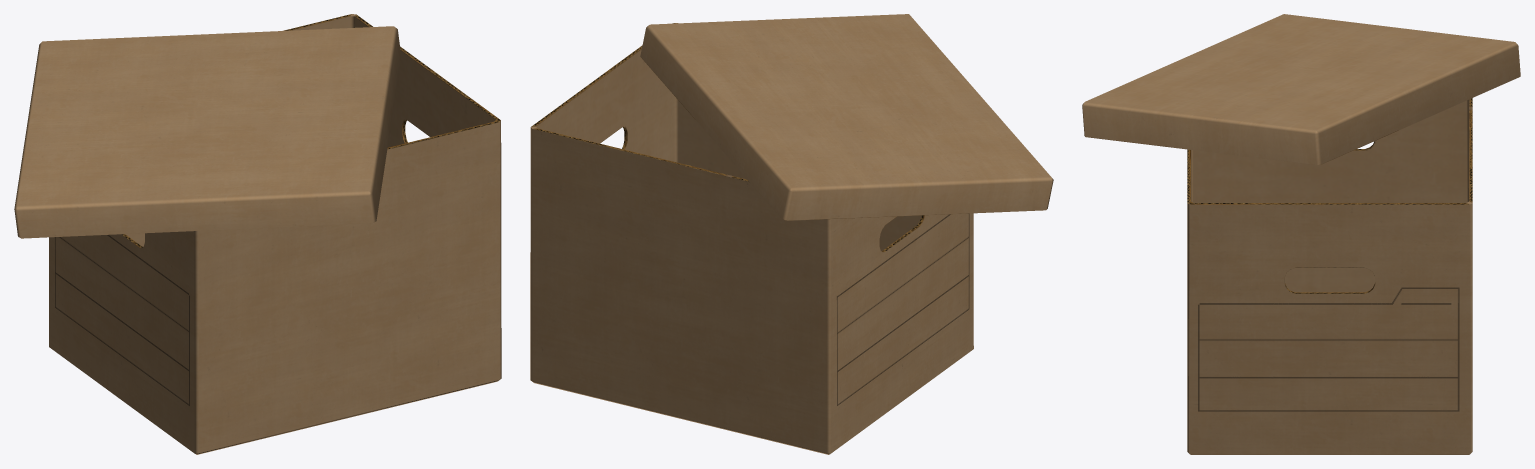
The model's file is SM_FilingBox_02.FBX.
3 views of the same model, side by side, from view 1: azimuth 30°, elevation 25°; view 2: azimuth 150°, elevation 25°; view 3: azimuth 270°, elevation 25° (orthographic). The views are drawn at different scales.
Visible parts, largest first — view 1: FilingBox_02; view 2: FilingBox_02; view 3: FilingBox_02.
Part boxes in pixels (x1,y1,x2,y2): FilingBox_02: [14, 14, 501, 454]; FilingBox_02: [530, 14, 1053, 454]; FilingBox_02: [1082, 14, 1520, 454].
Bounding box in the file's own units: 42.74 × 29.68 × 38.46.
